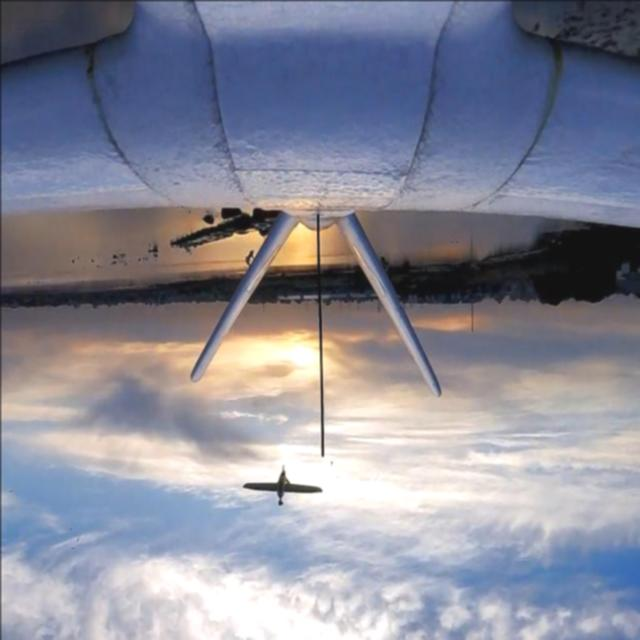plane: (242, 463, 323, 508)
